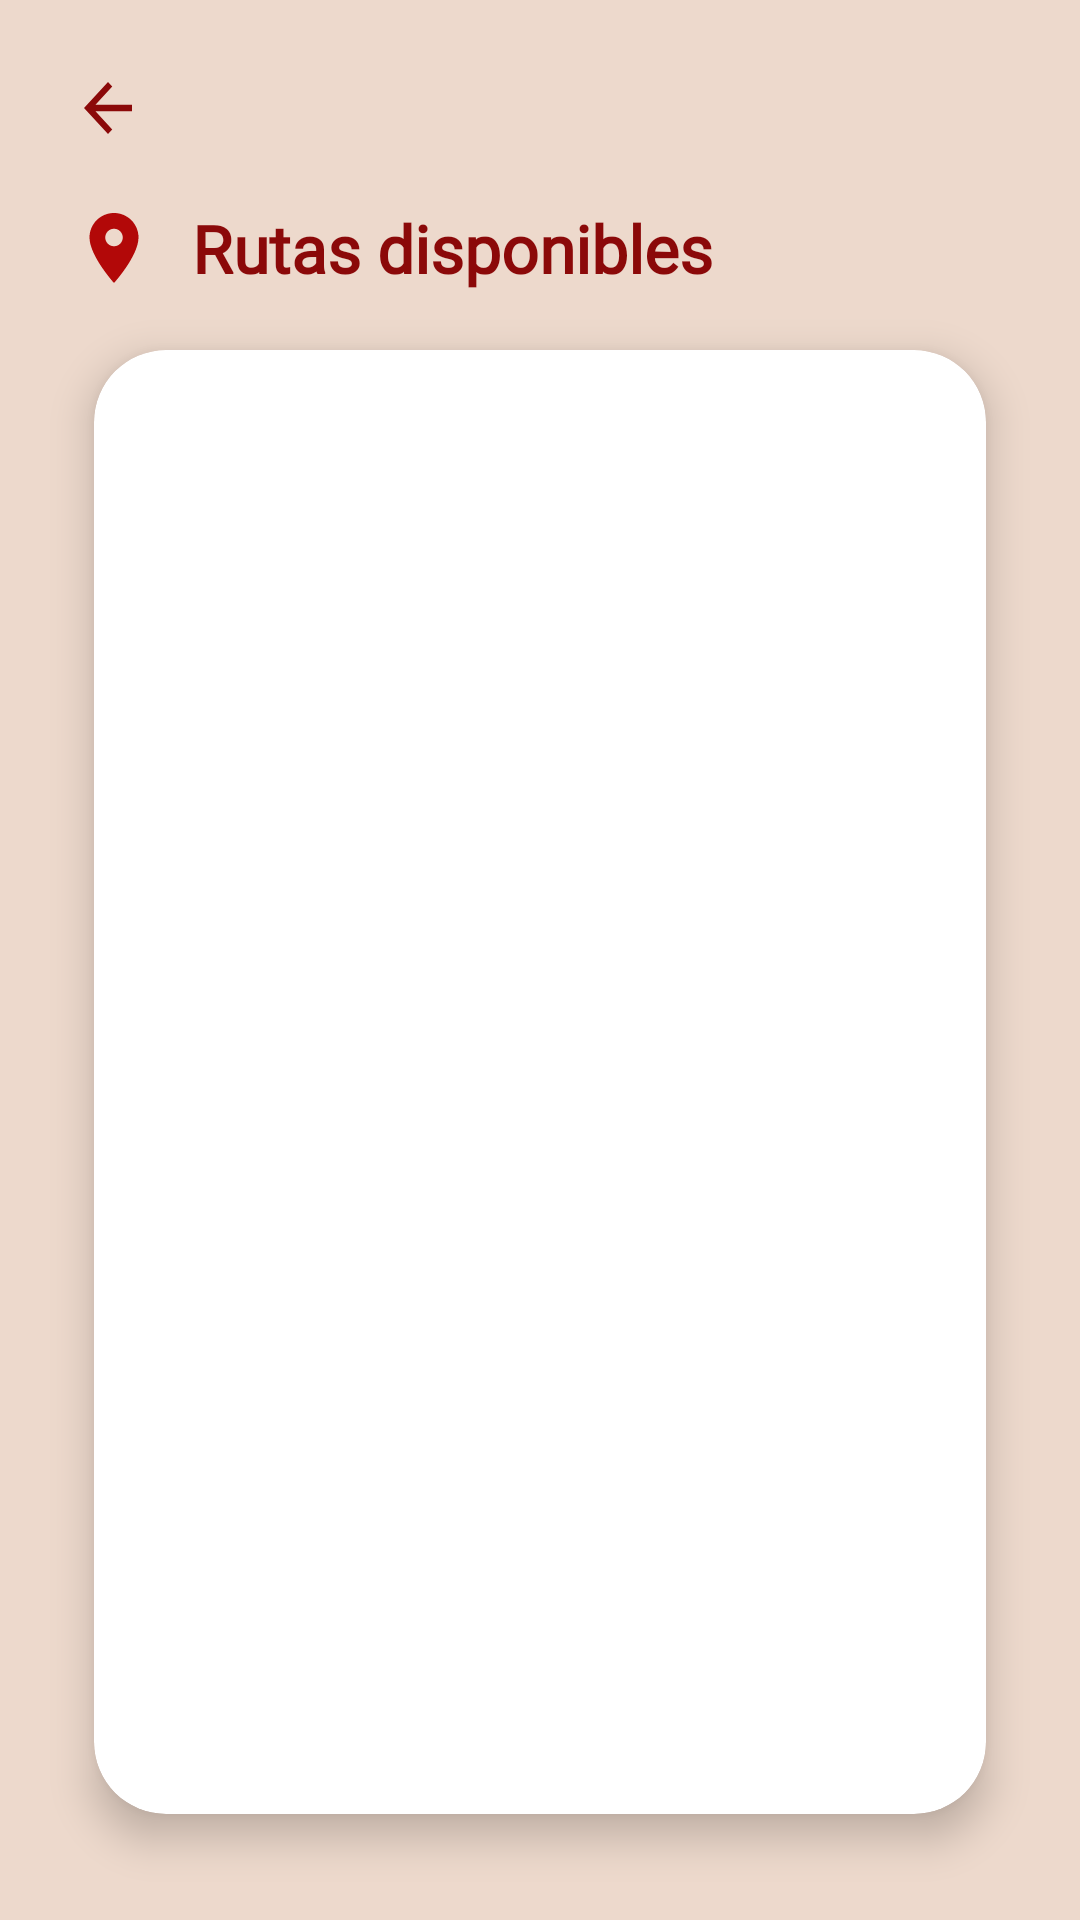

Icon bounding boxes for this 1080 x 1920 phone screenshot, format (x1, y1, x2, y2):
Volver: (84, 82, 132, 134)
